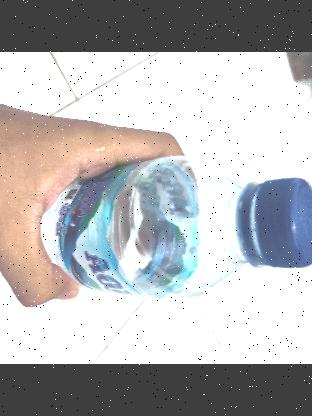Plastic Bottle: (0, 151, 312, 301)
